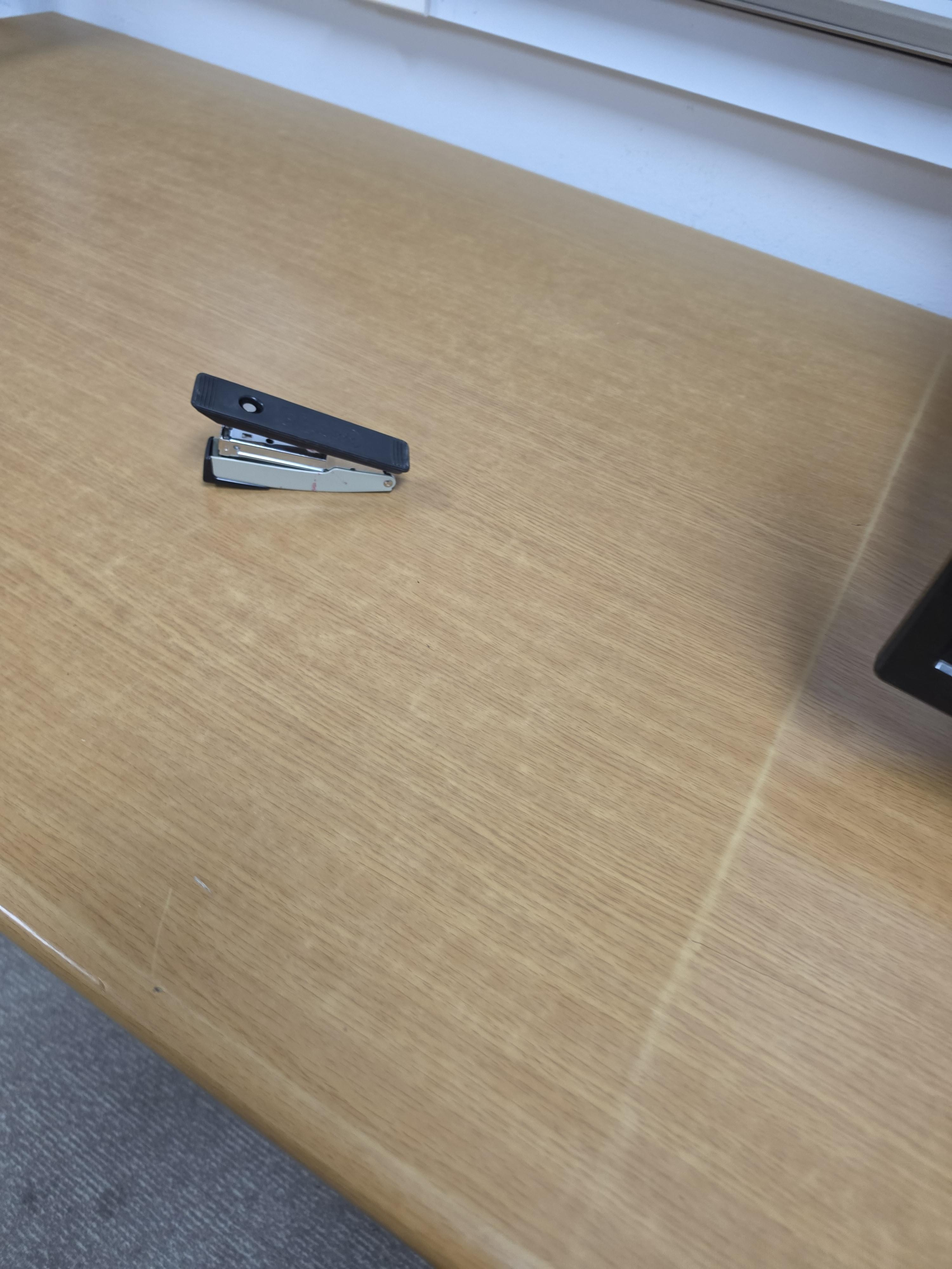stapler: (190, 372, 412, 494)
